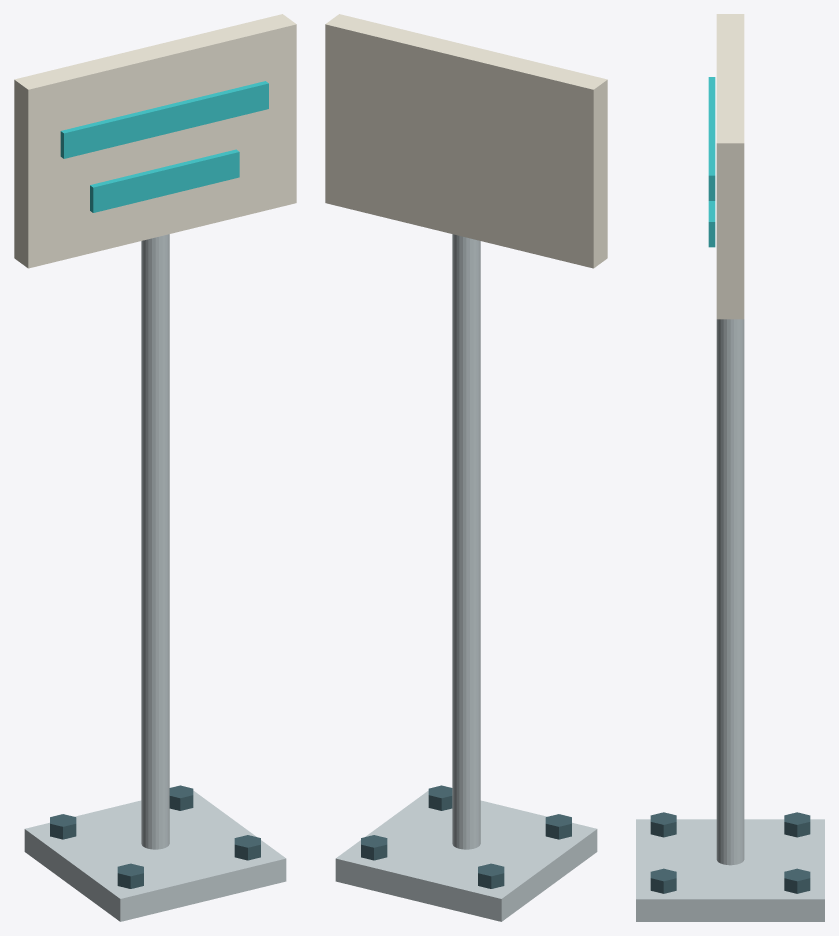
The model's file is waterpark-and-pool-operations-waterpark-and-pool-opera-45d4eb81__28980.glb.
3 renders of one model, left to right at view 1: azimuth 30°, elevation 25°; view 2: azimuth 150°, elevation 25°; view 3: azimuth 270°, elevation 25°, orthographic.
Parts seen in each view (by area): view 1: waterpark-and-pool-operations-depth-marker-sign; view 2: waterpark-and-pool-operations-depth-marker-sign; view 3: waterpark-and-pool-operations-depth-marker-sign.
Part boxes in pixels (<box>): waterpark-and-pool-operations-depth-marker-sign: <box>14,14,296,921</box>; waterpark-and-pool-operations-depth-marker-sign: <box>325,14,607,921</box>; waterpark-and-pool-operations-depth-marker-sign: <box>636,14,824,921</box>.
Size of the model in its own units: 0.55 by 1.59 by 0.34.
